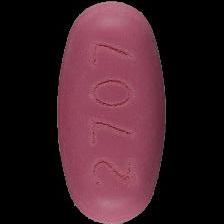33261-621: (0, 0, 224, 224)
